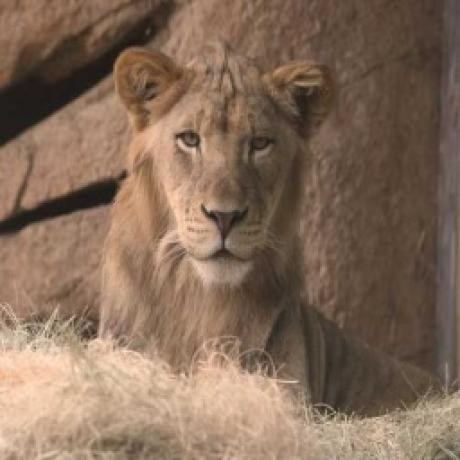Lion: (98, 43, 455, 410)
